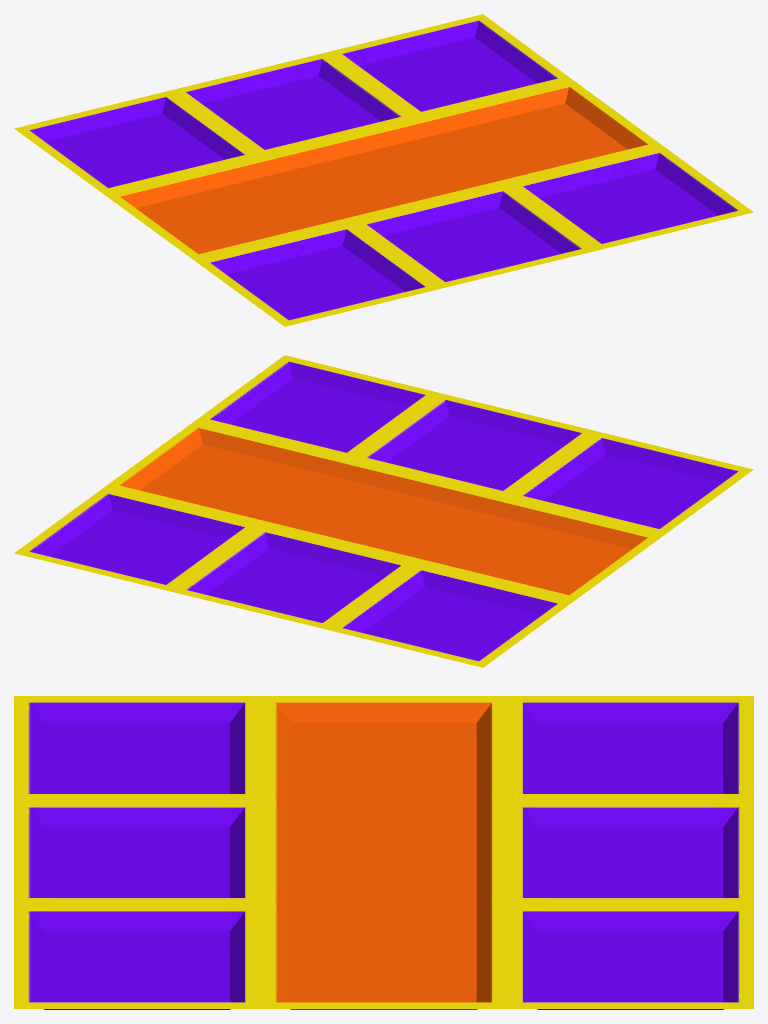
File: Ceiling_2.fbx
3 views of the same model, one above another, from view 1: azimuth 30°, elevation 25°; view 2: azimuth 150°, elevation 25°; view 3: azimuth 270°, elevation 25° (orthographic). The views are drawn at different scales.
Visible parts, largest first — view 1: Ceiling_2; view 2: Ceiling_2; view 3: Ceiling_2.
Boxes of the visible parts, x1,y1,x2,y2 form: Ceiling_2: (14,14,753,326); Ceiling_2: (14,355,753,667); Ceiling_2: (14,696,753,1009).
Bounding box in the file's own units: 300 × 6.25 × 300.
